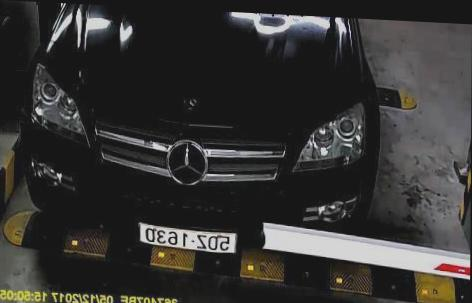License_Plate: (135, 219, 241, 256)
